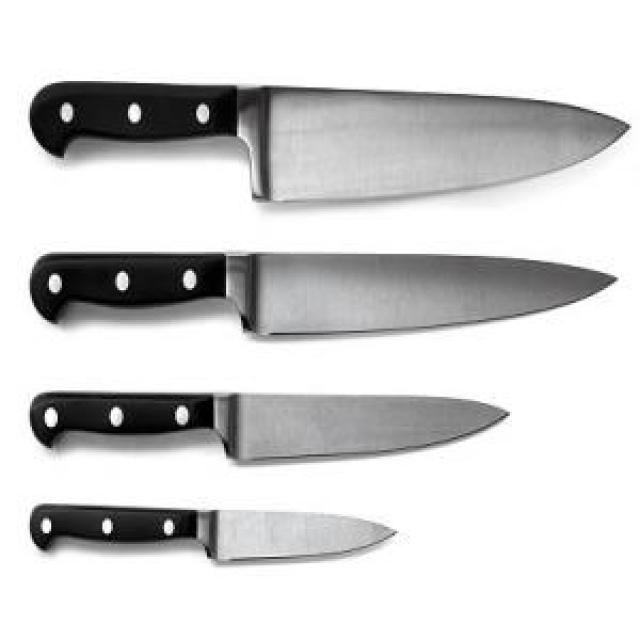knife: (28, 70, 631, 209), (30, 248, 625, 358), (28, 388, 512, 457), (28, 492, 402, 570)
